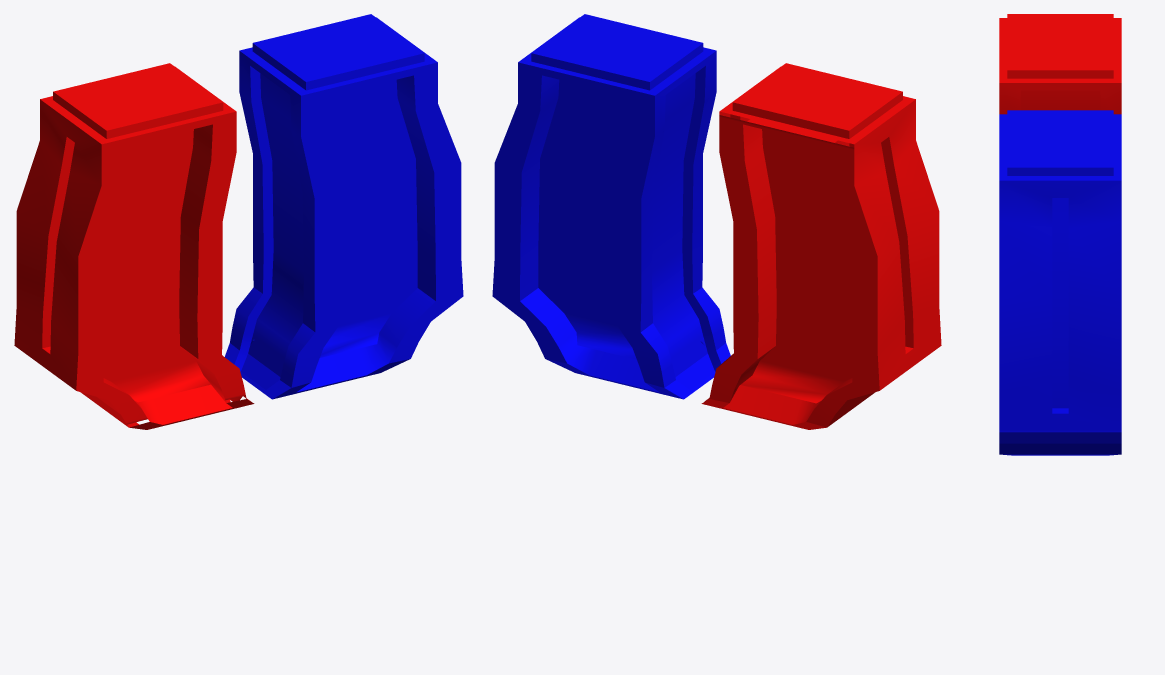
File: RobotHandMagnet.fbx
3 views of the same model, side by side, from view 1: azimuth 30°, elevation 25°; view 2: azimuth 150°, elevation 25°; view 3: azimuth 270°, elevation 25° (orthographic).
Parts seen in each view (by area): view 1: pCube1; view 2: pCube1; view 3: pCube1.
Part boxes in pixels (x1,y1,x2,y2): pCube1: (14,14,463,429); pCube1: (492,14,941,429); pCube1: (999,14,1121,455).
Bounding box in the file's own units: 20.2 × 27.06 × 8.22.
1 material, 1 textured.
